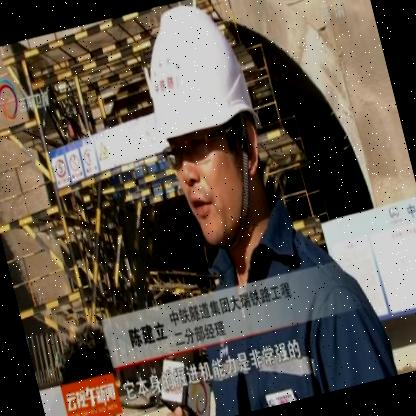capacete: (125, 0, 283, 253)
sem_colete_refletivo: (158, 187, 392, 415)
